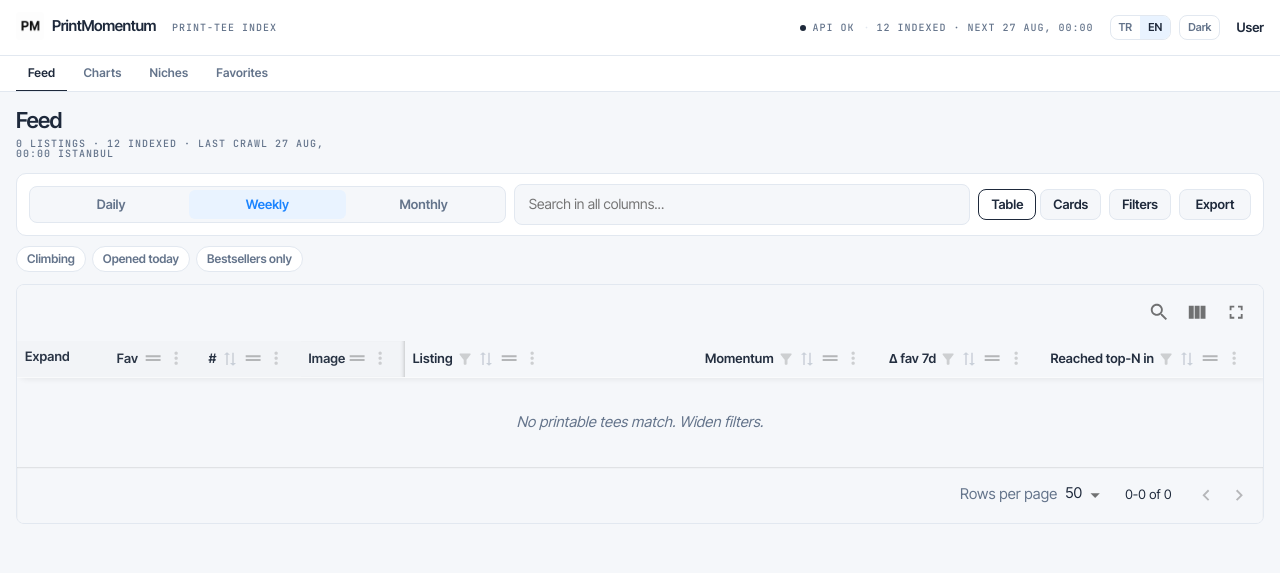
Test: AppRoutes › opens account from the profile menu
This screenshot has width=1280, height=573.
Click the button "User": x=1250, y=28 [1236,15,1264,40]
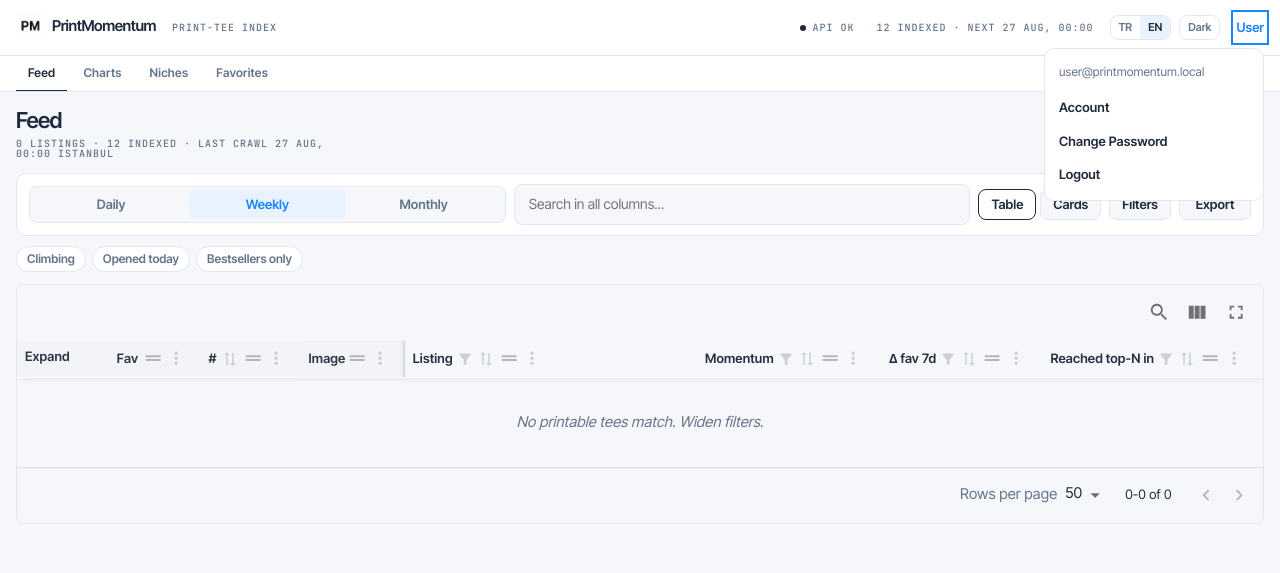
Click the menu item "Account": x=1084, y=107 [1059,99,1110,115]
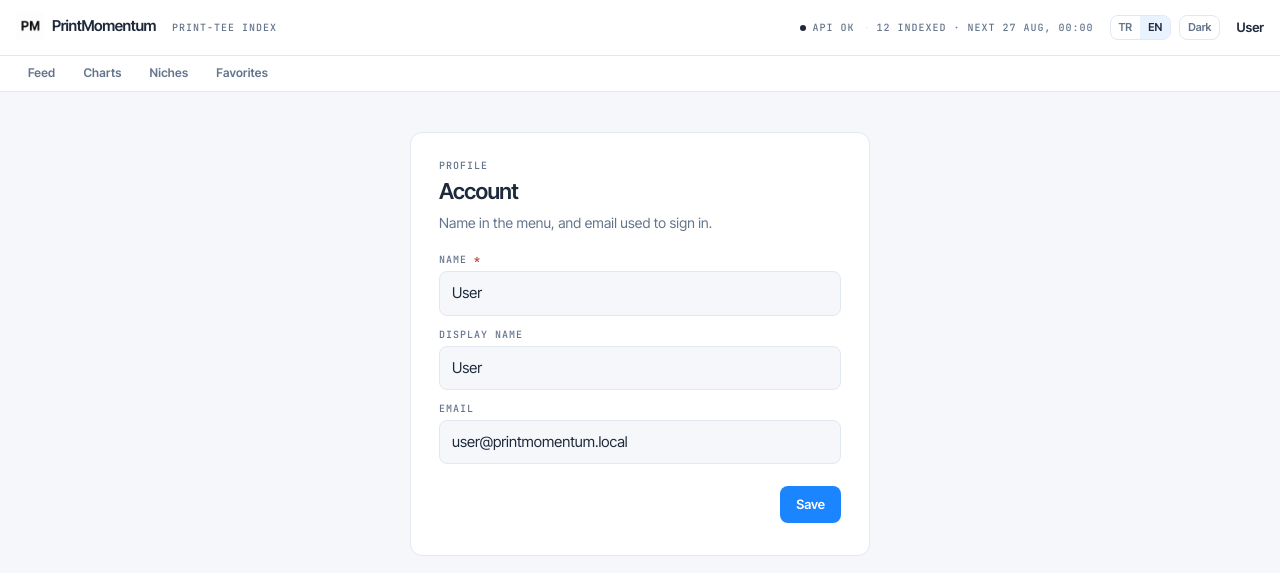
Check: the heading "Account" is shown, box [439,178,518,204]
